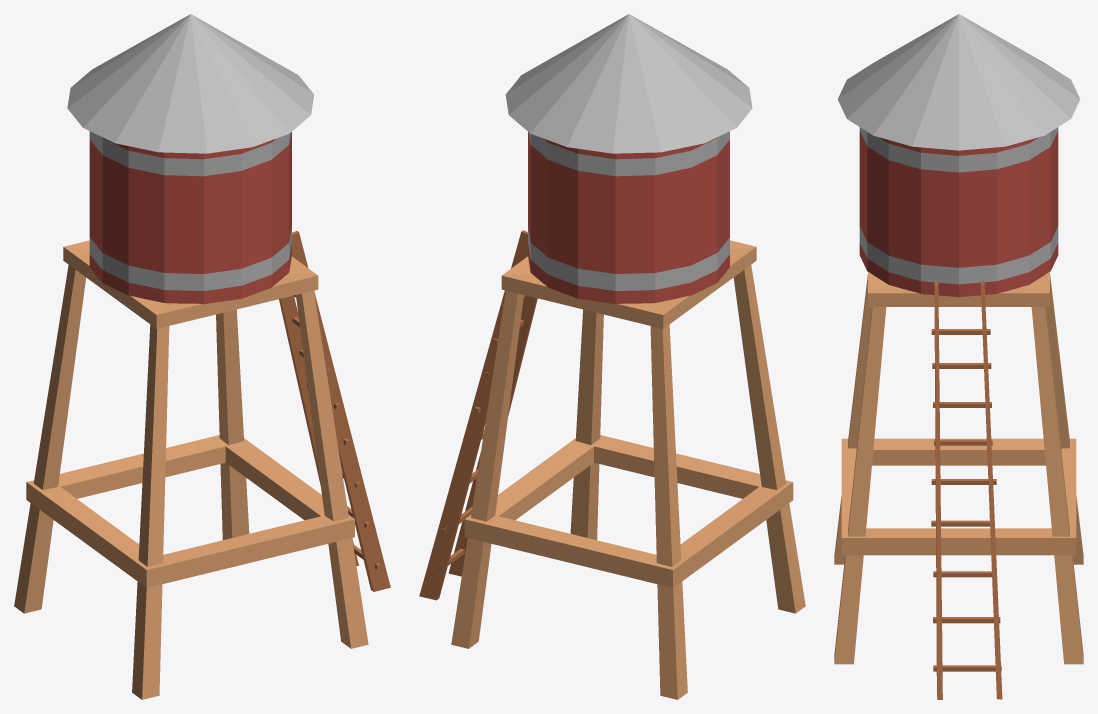
The model's file is tower.fbx.
The picture shows the model from 3 angles, left to right: view 1: azimuth 30°, elevation 25°; view 2: azimuth 150°, elevation 25°; view 3: azimuth 270°, elevation 25°; orthographic projection. The views are drawn at different scales.
Parts seen in each view (by area): view 1: tower; view 2: tower; view 3: tower.
Boxes of the visible parts, x1,y1,x2,y2 form: tower: (14, 14, 390, 699); tower: (419, 14, 805, 699); tower: (834, 14, 1083, 699).
Size of the model in its own units: 134 by 261 by 98.83.
